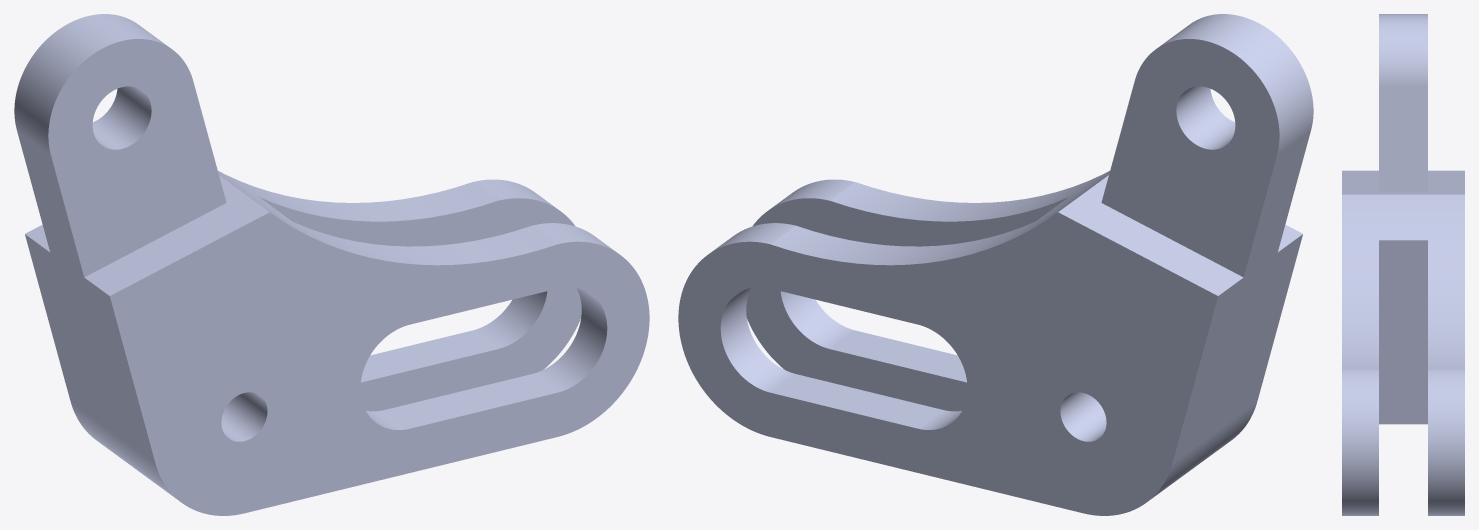
The picture shows the model from 3 angles, left to right: view 1: azimuth 30°, elevation 25°; view 2: azimuth 150°, elevation 25°; view 3: azimuth 270°, elevation 25°; orthographic projection. The views are drawn at different scales.
Parts seen in each view (by area): view 1: Pivot_Support; view 2: Pivot_Support; view 3: Pivot_Support.
Boxes of the visible parts, <box> form: Pivot_Support: <box>14,14,649,515</box>; Pivot_Support: <box>678,14,1313,515</box>; Pivot_Support: <box>1342,14,1464,515</box>.
Size of the model in its own units: 0.1563 by 0.1239 by 0.04.
